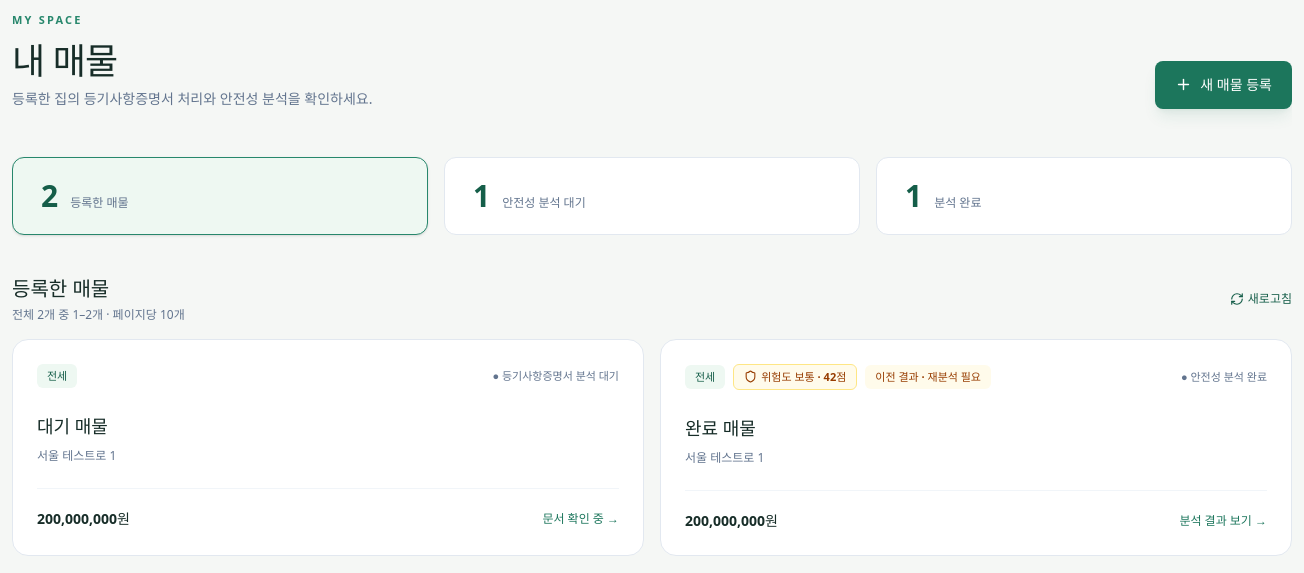
Test case: listing result badges › marks outdated results and reloads the badge when refreshed
This screenshot has width=1304, height=573.
Check: the text "이전 결과 · 재분석 필요" is shown, box [865,364,991,389]
Click the button "새로고침". click: [1261, 298]
box: [1230,290,1292,306]
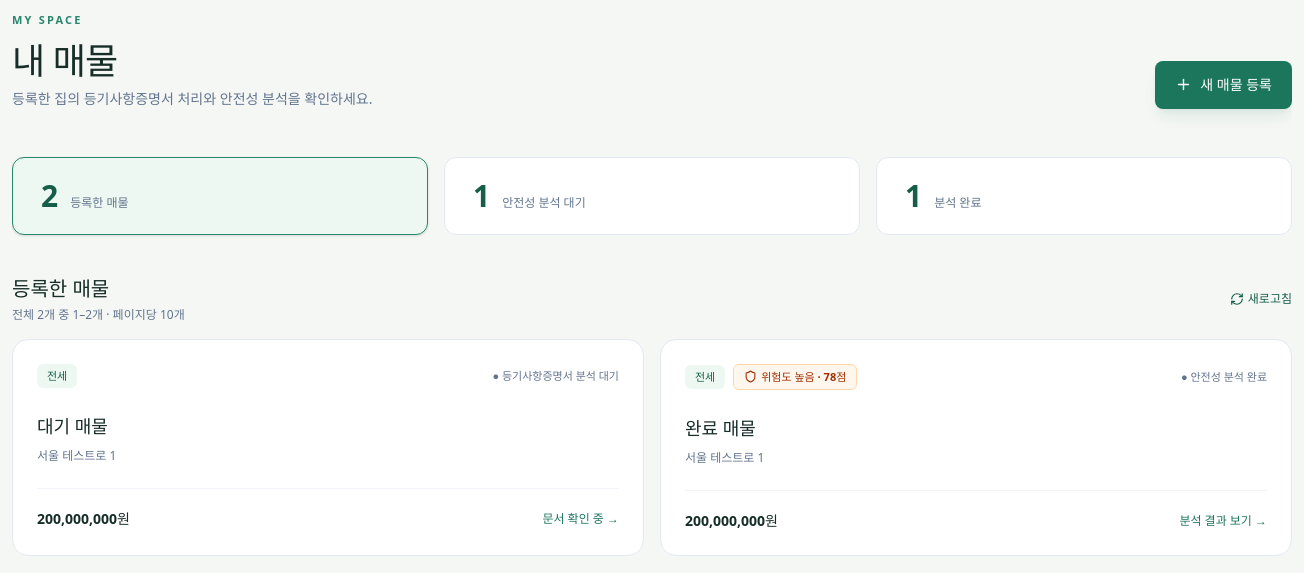
Check: the text "위험도 높음 · 78점" is shown, box [733,364,857,390]
Check: the text "이전 결과 · 재분석 필요" is gone
